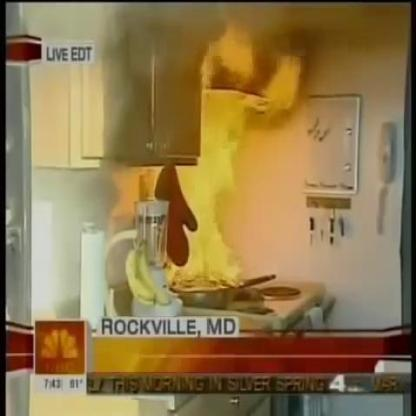fire: (172, 19, 294, 288)
